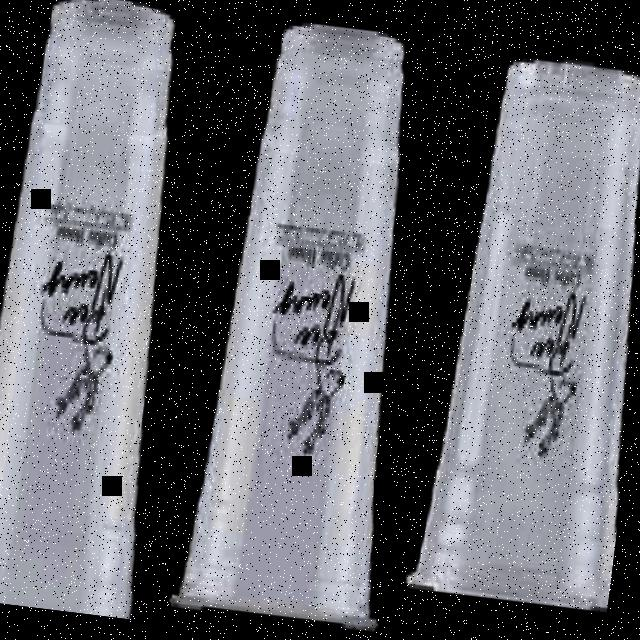plastic_cup: (172, 19, 450, 636), (0, 0, 219, 620), (404, 41, 640, 608)
